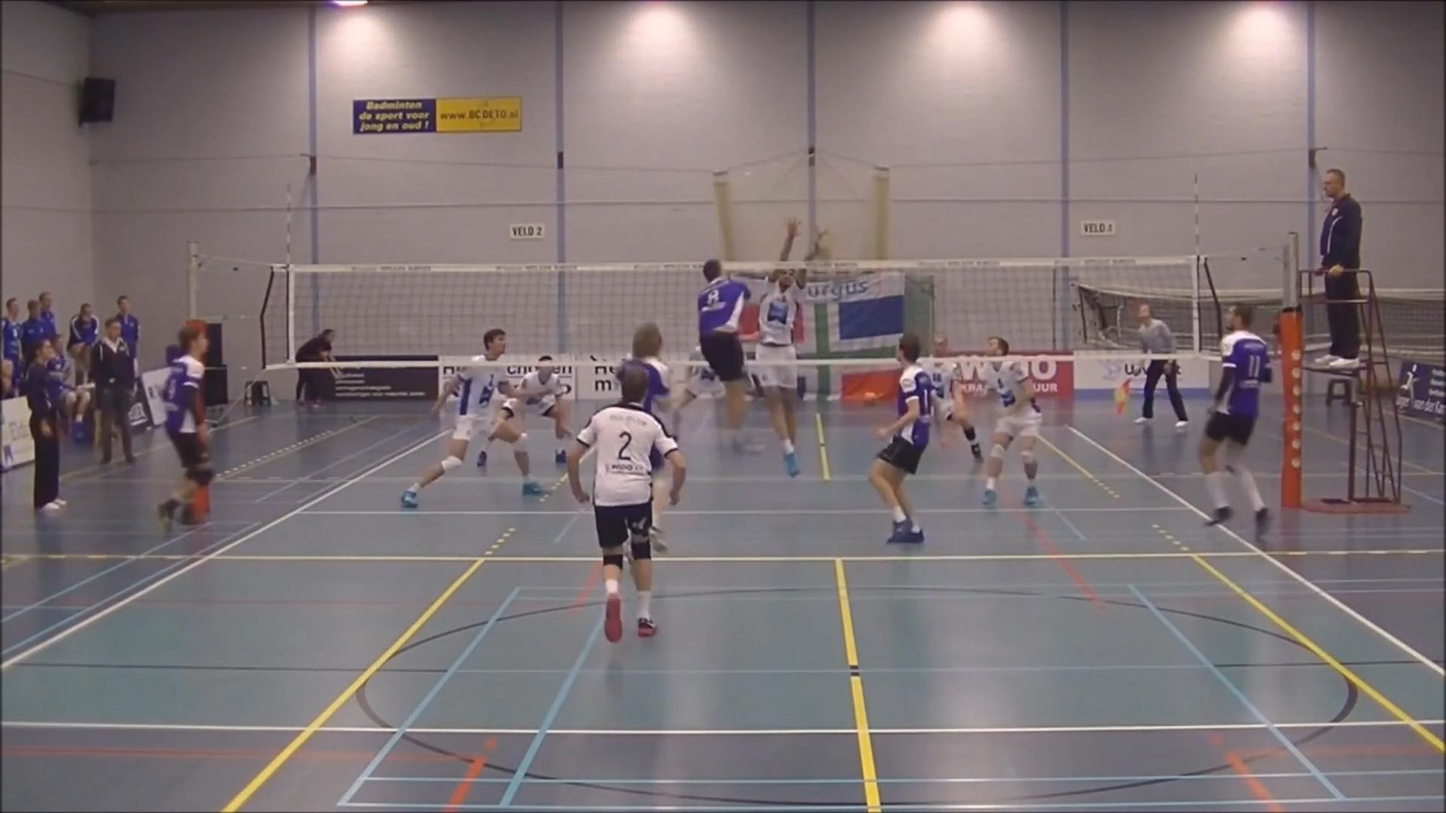Attack: (693, 255, 770, 456)
Block: (753, 215, 829, 489)
Player: (566, 366, 685, 641), (401, 328, 542, 507), (1199, 306, 1271, 537), (868, 333, 933, 543), (157, 324, 213, 528), (983, 361, 1042, 507), (920, 333, 982, 461), (499, 355, 570, 464), (616, 322, 670, 414), (618, 322, 670, 416), (670, 347, 722, 436)
